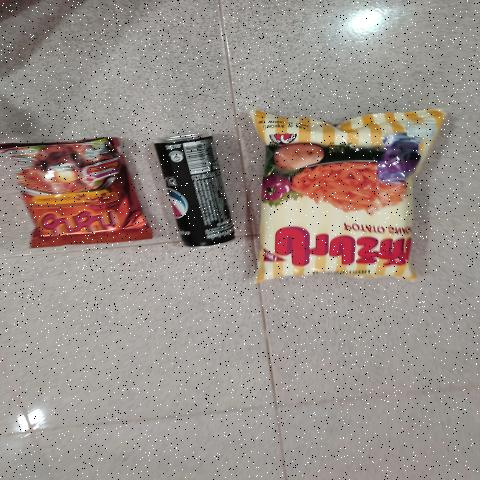mama: (12, 152, 135, 242)
paprika: (265, 130, 401, 272)
pepsi_black: (154, 142, 237, 250)
